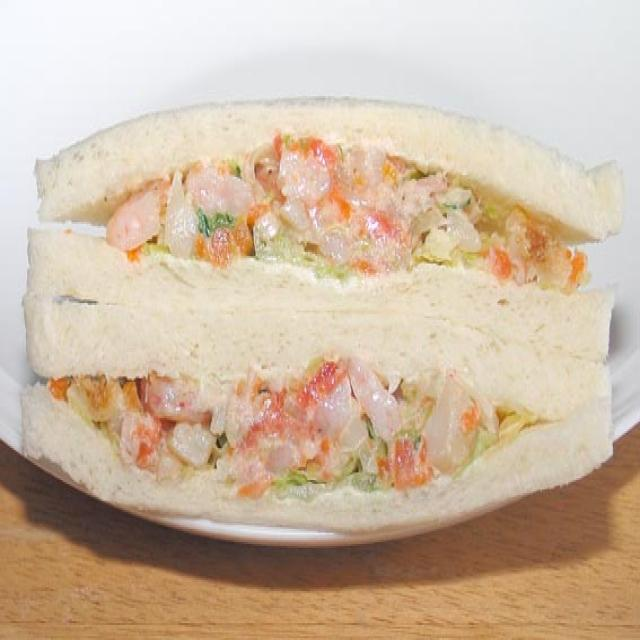三明治: (12, 90, 620, 531)
